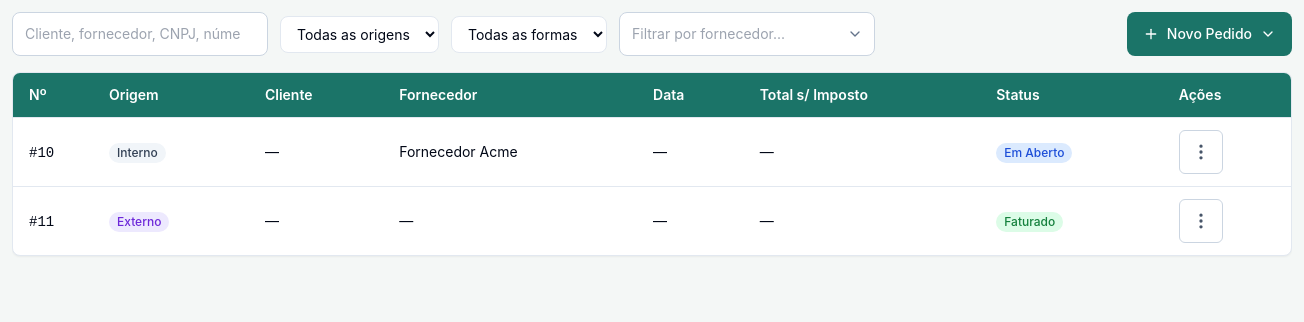
Test: Pedidos — menu de ações › navega por teclado, fecha com Escape e devolve foco ao gatilho
Click the button named "Opções do pedido #10".
click(1201, 152)  # box [1179,130,1223,174]
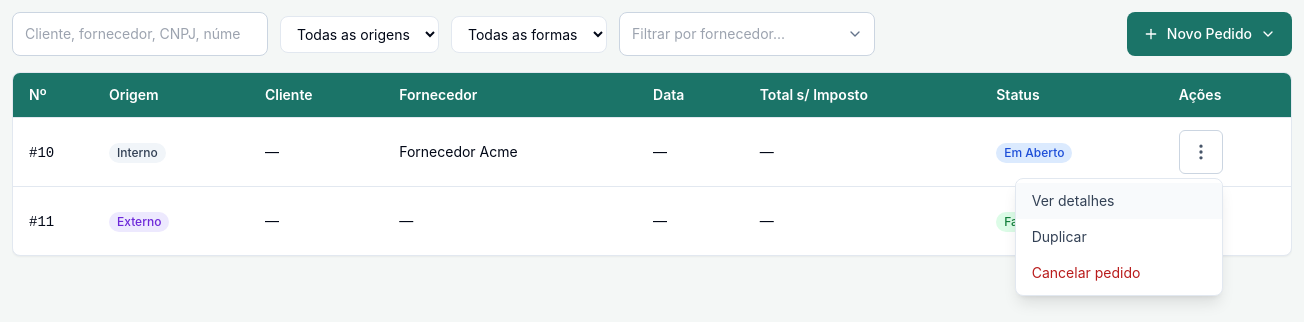
Press End in the menu, box [1015,178,1223,296]
Press ArrowDown in the menu, box [1015,178,1223,296]
Press ArrowUp in the menu, box [1015,178,1223,296]
Press Home in the menu, box [1015,178,1223,296]
Press Escape in the menu, box [1015,178,1223,296]
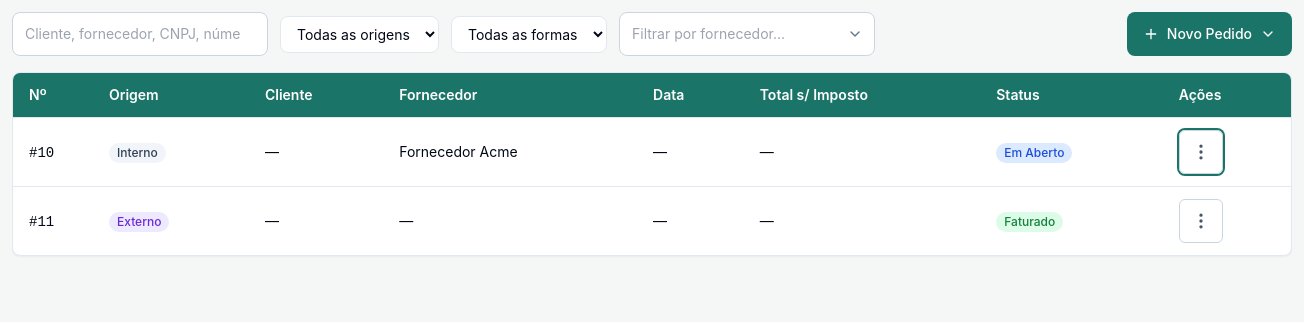
Result: the menu is gone
